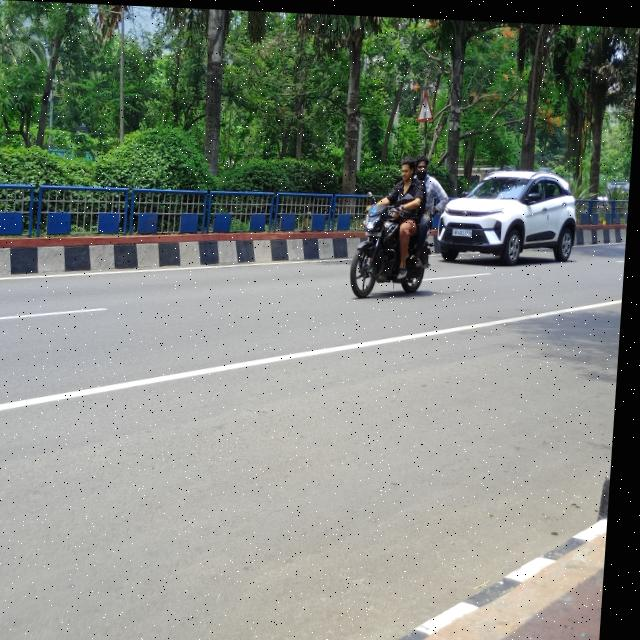bike: (346, 194, 441, 298)
car: (444, 160, 590, 275)
